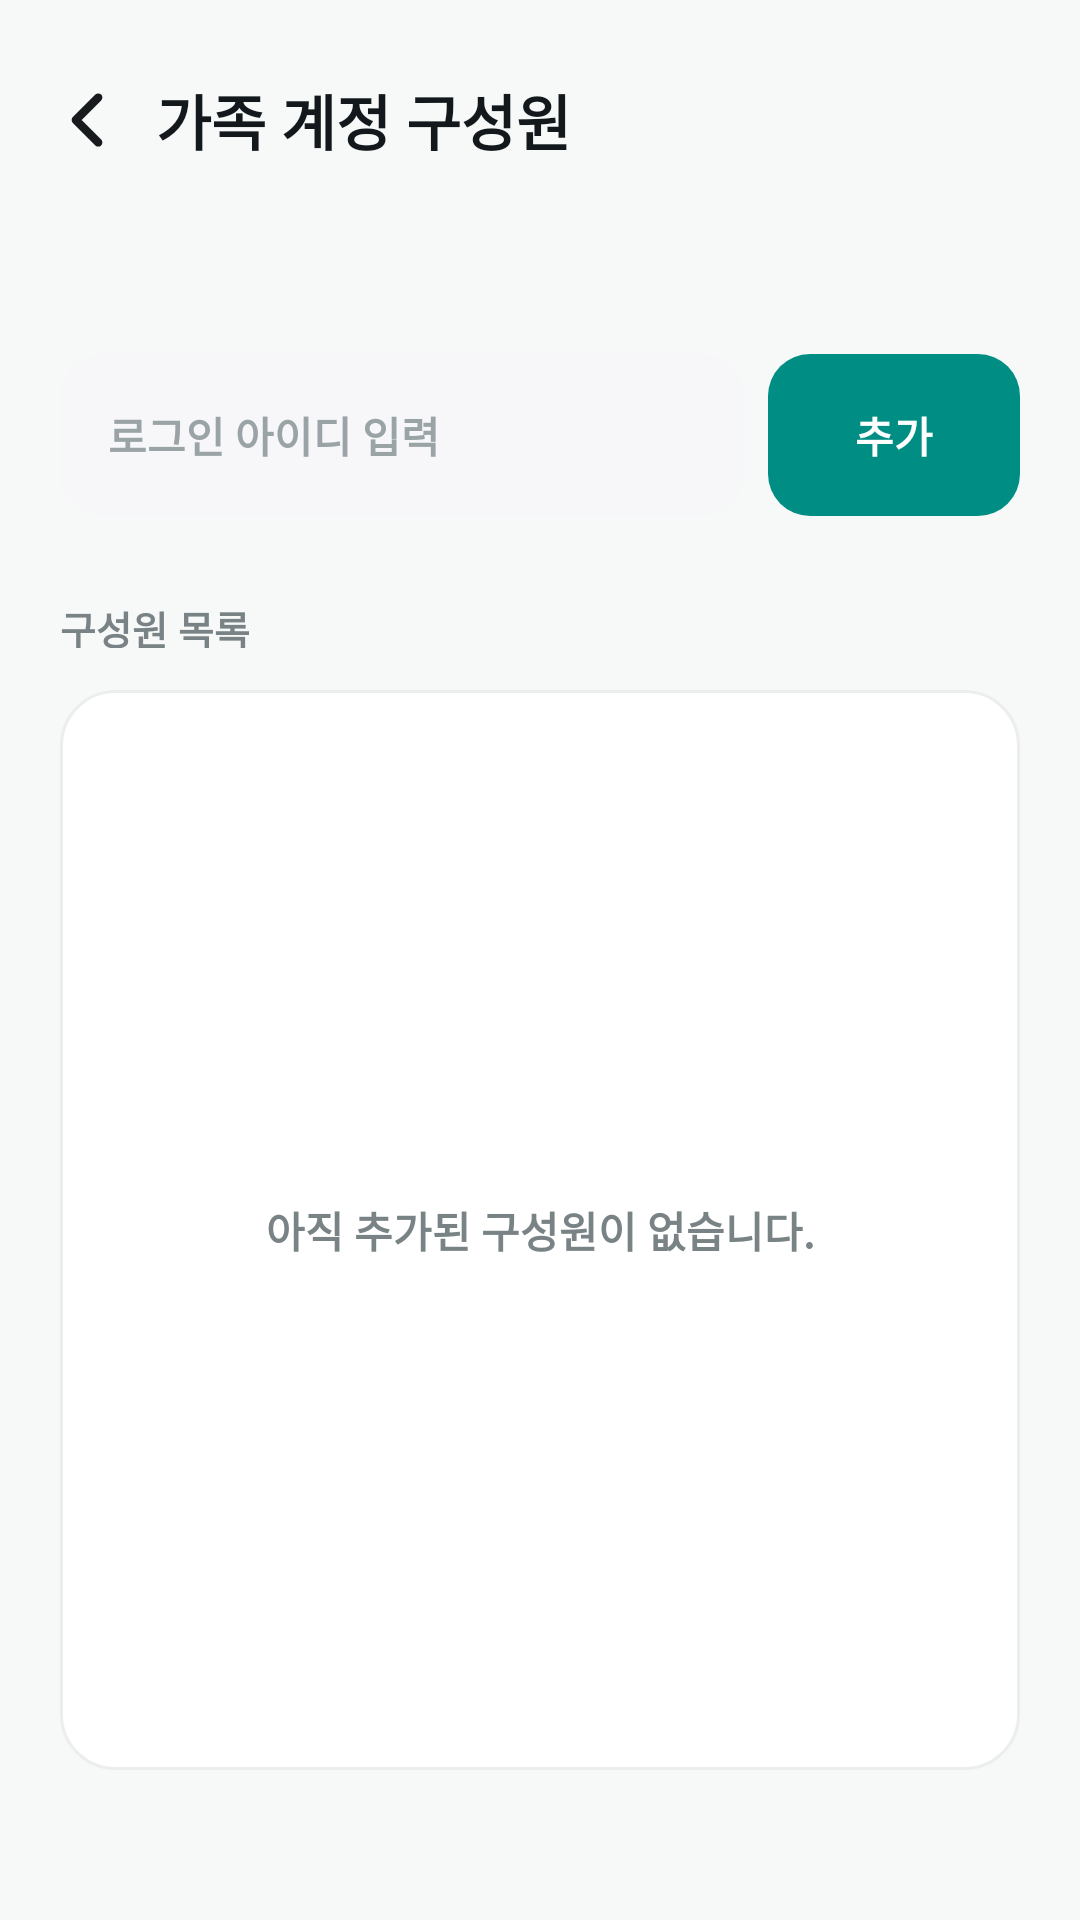

Where icons sit on this 1080 × 1920 app screen, as (x1, y1, x2, y2):
chevron left: (71, 93, 103, 147)
